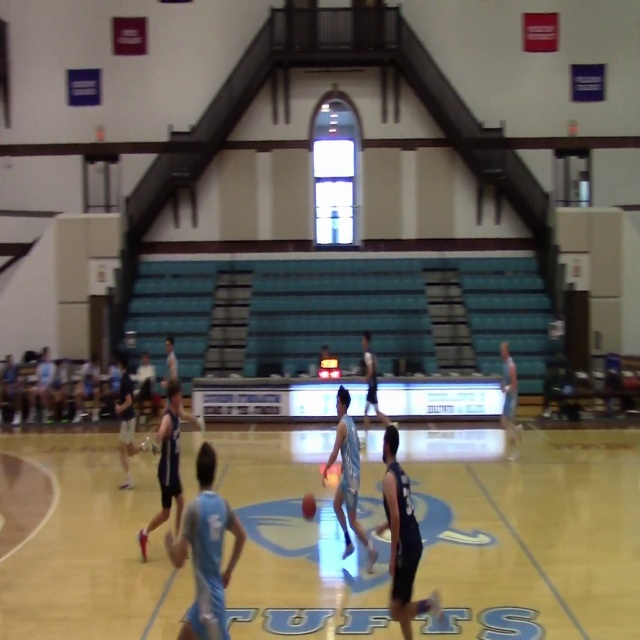Basketball: (165, 530, 188, 569), (324, 465, 341, 488), (302, 492, 316, 519)
